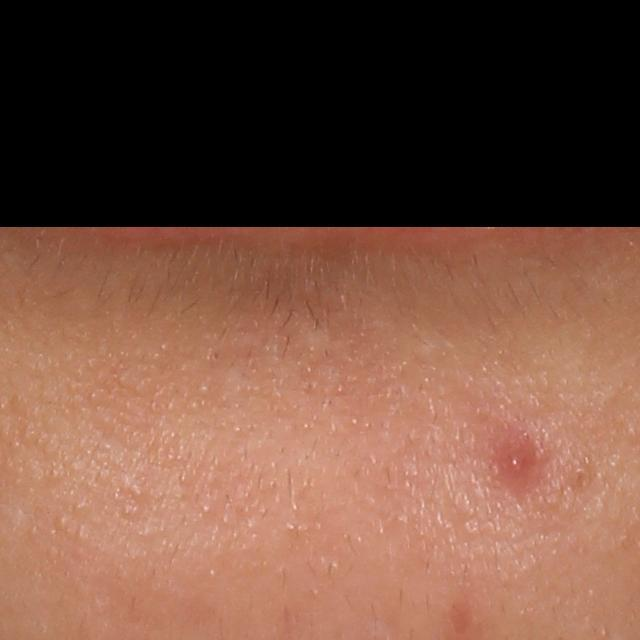papule: (492, 442, 541, 493)
